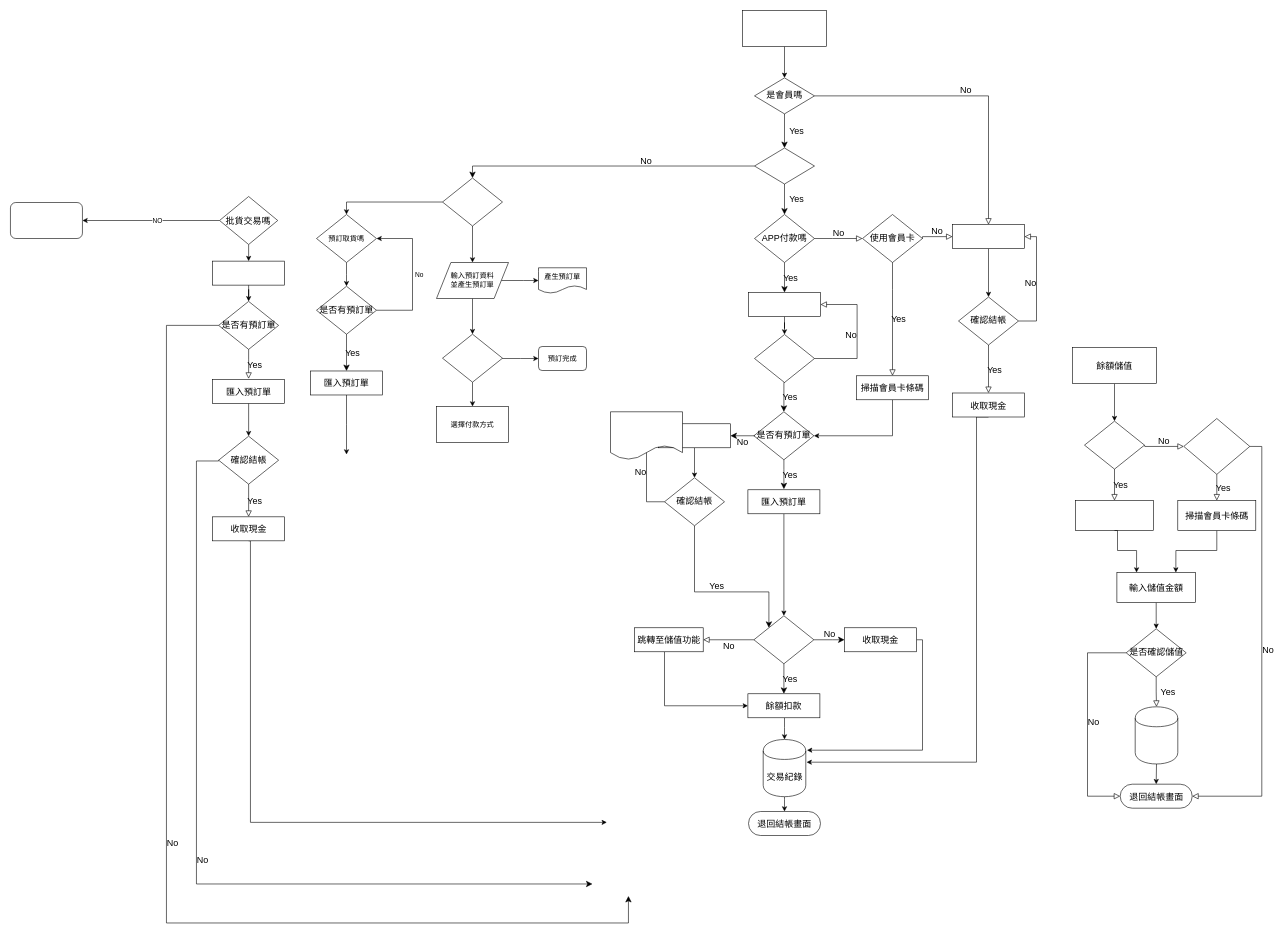
Some shapes in this 1284 by 940 pixel diagram are drawn without their labels. Here are the shapes that lost their labels. From the top down, the centre of each, then its label:
point (784, 28): 結帳交易
point (784, 165): 一般交易嗎
point (46, 220): 退回POS主頁
point (472, 201): 現場預訂嗎
point (988, 236): 掃描商品資訊
point (248, 273): 選擇會員資訊
point (784, 304): 掃描APP結帳碼
point (472, 358): 現在結帳嗎?
point (784, 358): 驗證結帳碼
point (694, 435): 掃描商品條碼
point (1114, 445): 使用APP 儲值
point (1216, 446): 使用會員 卡儲值
point (1114, 515): 掃描儲值碼
point (783, 639): 餘額夠嗎
point (1156, 735): 儲值資訊
